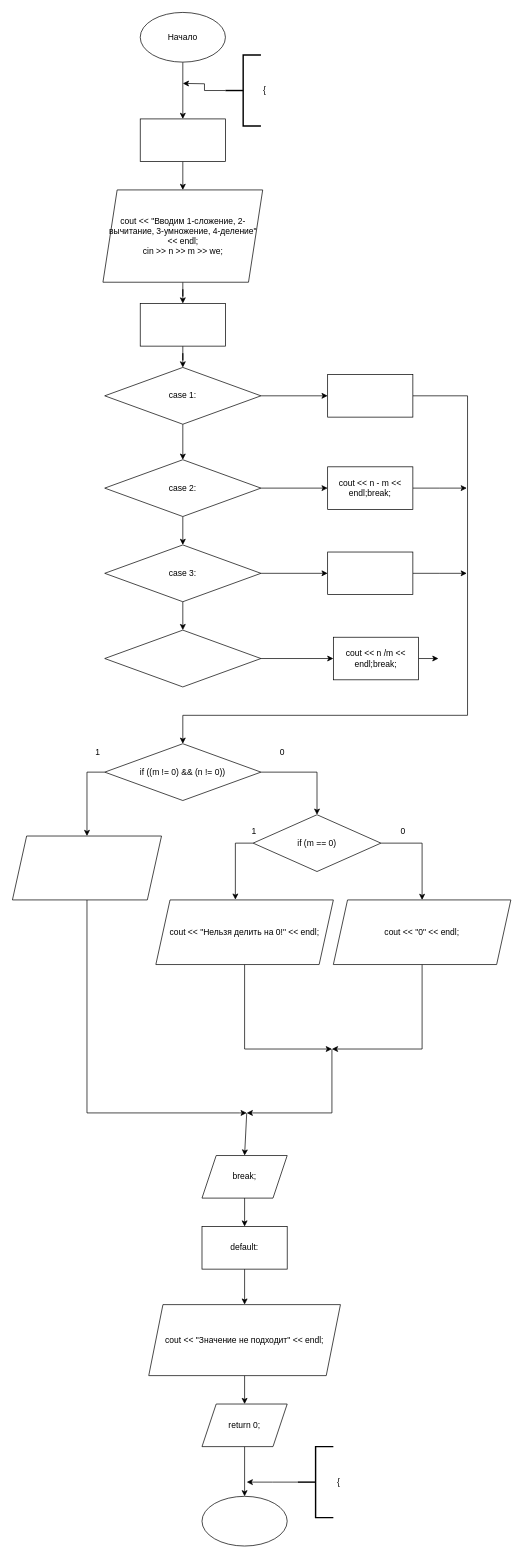
Image size: 523x1558. Some labels were removed from this diagram. Each missing label, with the centre of its shape:
case 4:: the point at 182,658
cout << n *m << endl;break;: the point at 370,573
cout << n + m << endl;break;: the point at 370,395
cout << n / m << endl;: the point at 87,867
float n, m; int we;: the point at 182,140
switch (we): the point at 182,324
Конец: the point at 244,1521
